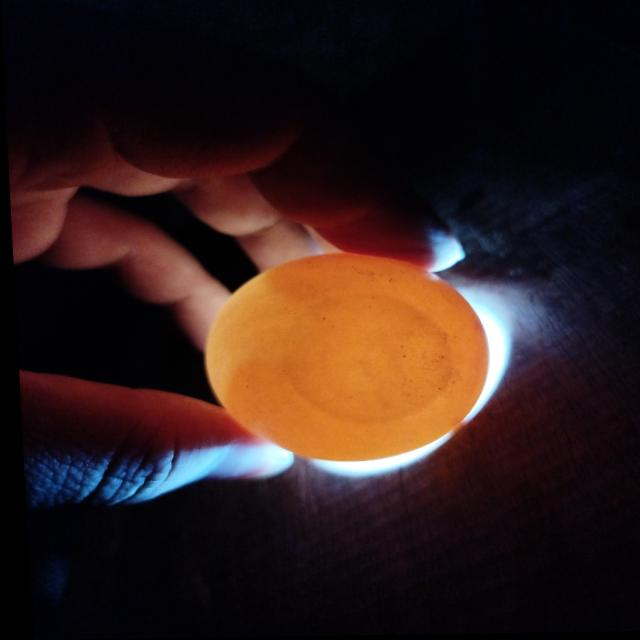Camara de Ar: (285, 296, 447, 423)
